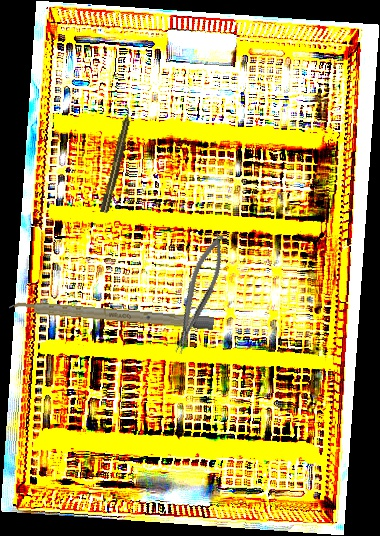Handpiece: (99, 106, 135, 214)
Needle Holder: (162, 229, 235, 357)
Scalpel Handle: (8, 299, 215, 330)
